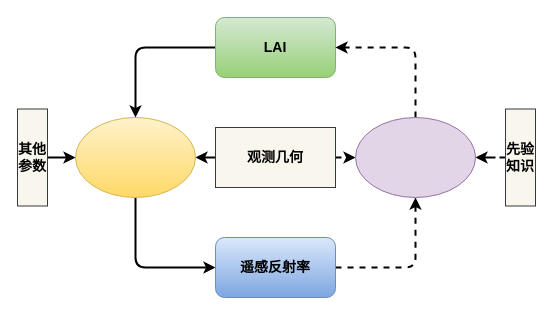
Some shapes in this 553 by 315 pixel diagram are drawn without their labels. The shapes that lost their labels are listed below. From the top down, each one's centre as x and y in pixels, then its label:
the point at 135,157: 正向模拟模型
the point at 415,157: 反向反演算法
